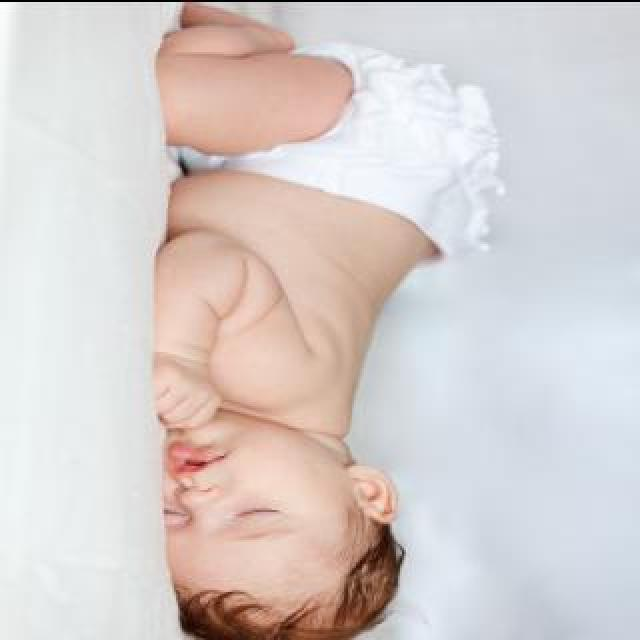baby: (148, 4, 502, 640)
